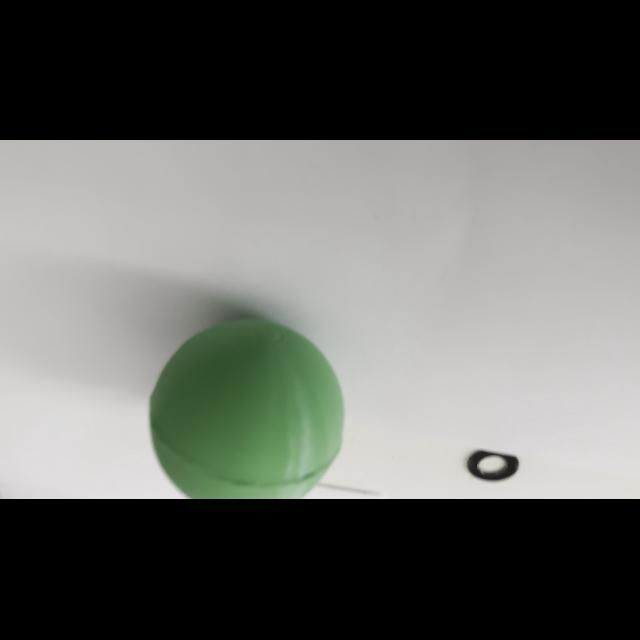objects: (146, 312, 348, 498)
